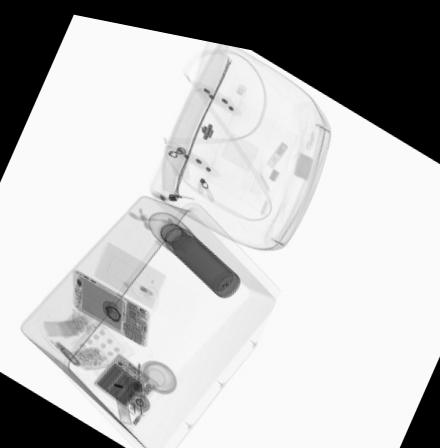Powerbank: (92, 346, 153, 404)
